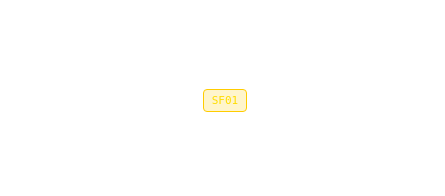
Scenario: Inspector Component (Story 7.7) › FlagsList (AC #2, #6) › should show flag detail on click
What coordinates should you click on to do the following:
click the button with test id "flag-SF01"
I would click on:
 (225, 100)
Its box is [203,88,247,112].
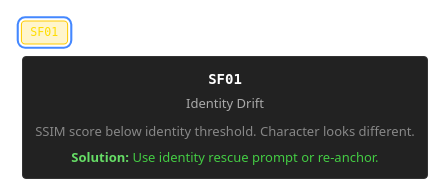
Result: the element with test id "flag-detail" is shown at [22,56,428,179]
Result: the text "Identity Drift" is shown at [186,94,264,112]
Result: the text "SSIM score below" is shown at [35,122,415,140]
